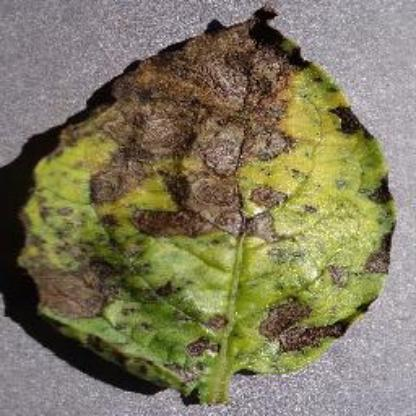Early-Blight: (18, 5, 400, 403)
